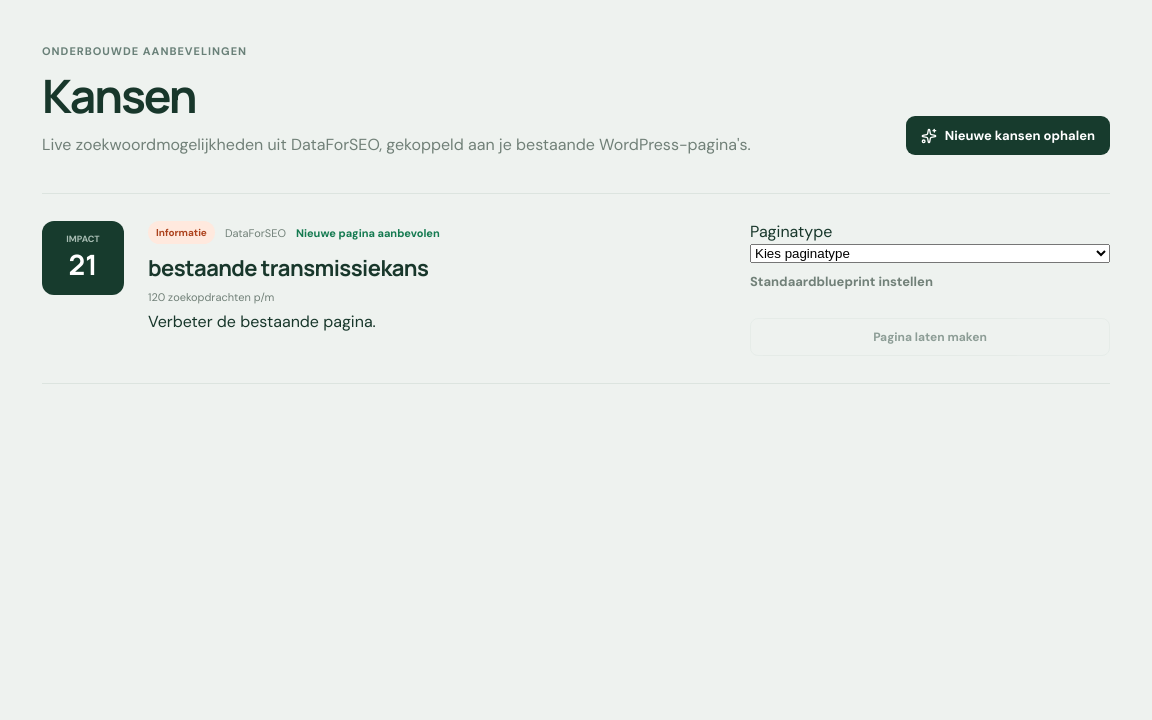
Test case: OpportunitiesPage › keeps old rows and reports the new sync counts
The width and height of the screenshot is (1152, 720).
Check: the heading "bestaande transmissiekans" is shown, box [148,253,428,283]
Click the button "Nieuwe kansen ophalen": [1008, 136] box [906,116,1110,155]
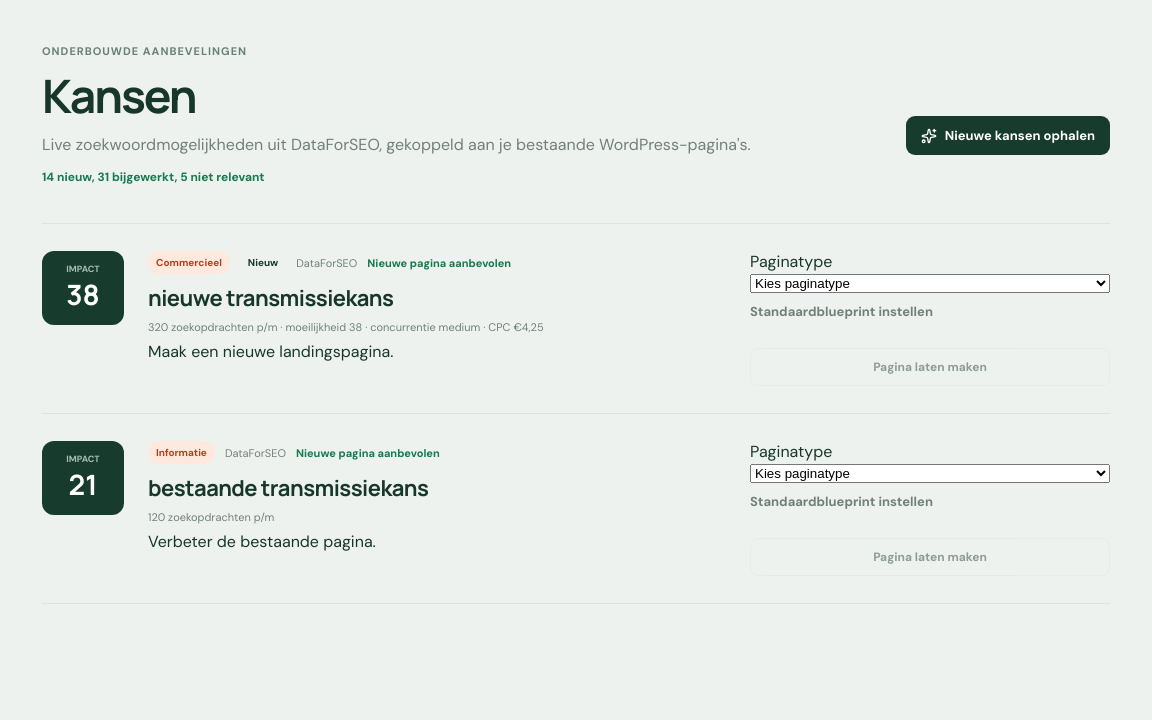
Check: the heading "bestaande transmissiekans" is shown, box [148,473,428,503]
Check: the message reads "14 nieuw, 31 bijgewerkt, 5 niet relevant", box [42,169,265,185]
Check: the text "Nieuw" is shown, box [240,251,286,274]
